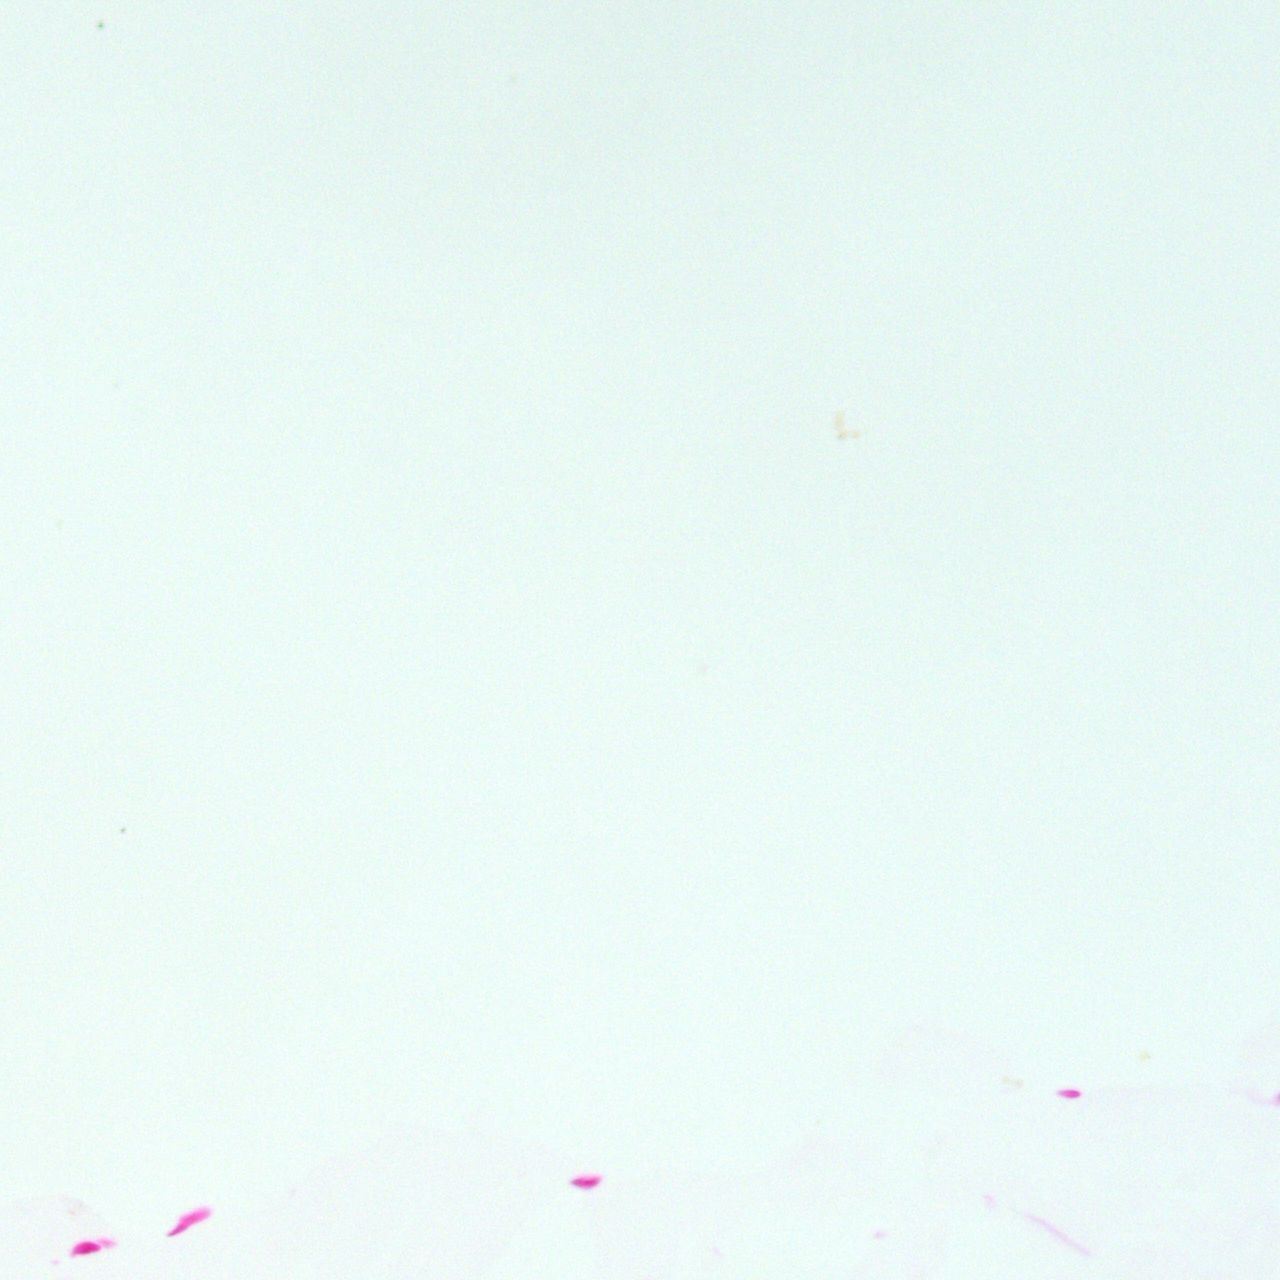nucleus-FG: (162, 1200, 213, 1239), (70, 1237, 101, 1257)
